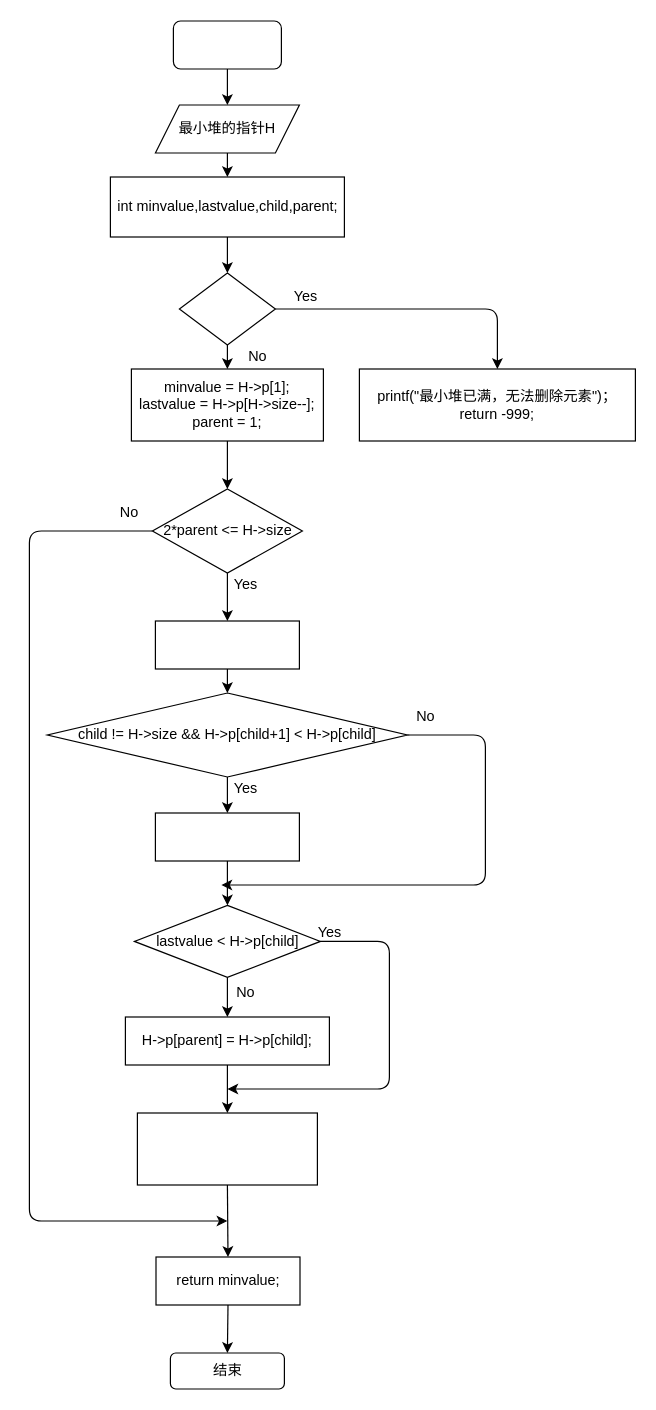
Some shapes in this 656 by 1410 pixel diagram are drawn without their labels. The shapes that lost their labels are listed below. From the top down, each one's centre as x and y in pixels, then its label:
At pixel 226 44: "开始".
At pixel 226 308: "堆空？".
At pixel 226 644: "child = 2*parent;".
At pixel 226 836: "child++;".
At pixel 226 1148: "H->p[parent] = lastvalue; return minvalue;".
